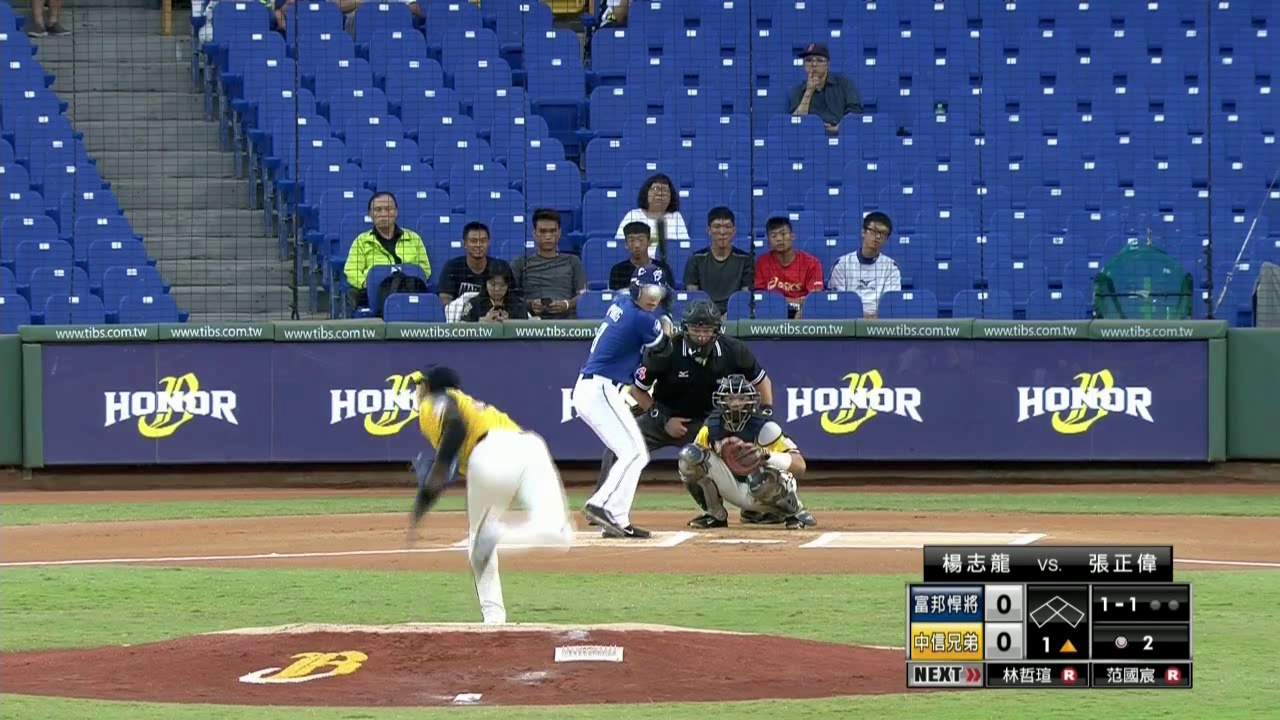ball: (644, 281, 663, 301)
base: (1029, 593, 1087, 627)
bat: (654, 215, 676, 295)
out: (1146, 597, 1180, 612)
score1: (986, 584, 1024, 621)
score2: (984, 622, 1023, 657)
session: (1038, 633, 1078, 654)
strikeball: (1098, 593, 1138, 614)
total: (1106, 629, 1158, 653)
